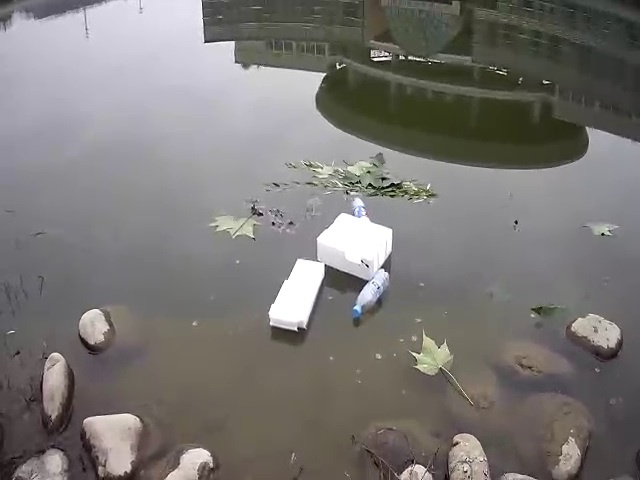bottle: (351, 266, 394, 319), (347, 193, 373, 220)
leaf: (271, 150, 439, 204), (402, 333, 464, 374), (208, 204, 260, 243), (524, 292, 567, 329), (583, 218, 620, 242)
paomo: (308, 208, 399, 279), (266, 257, 323, 331)
